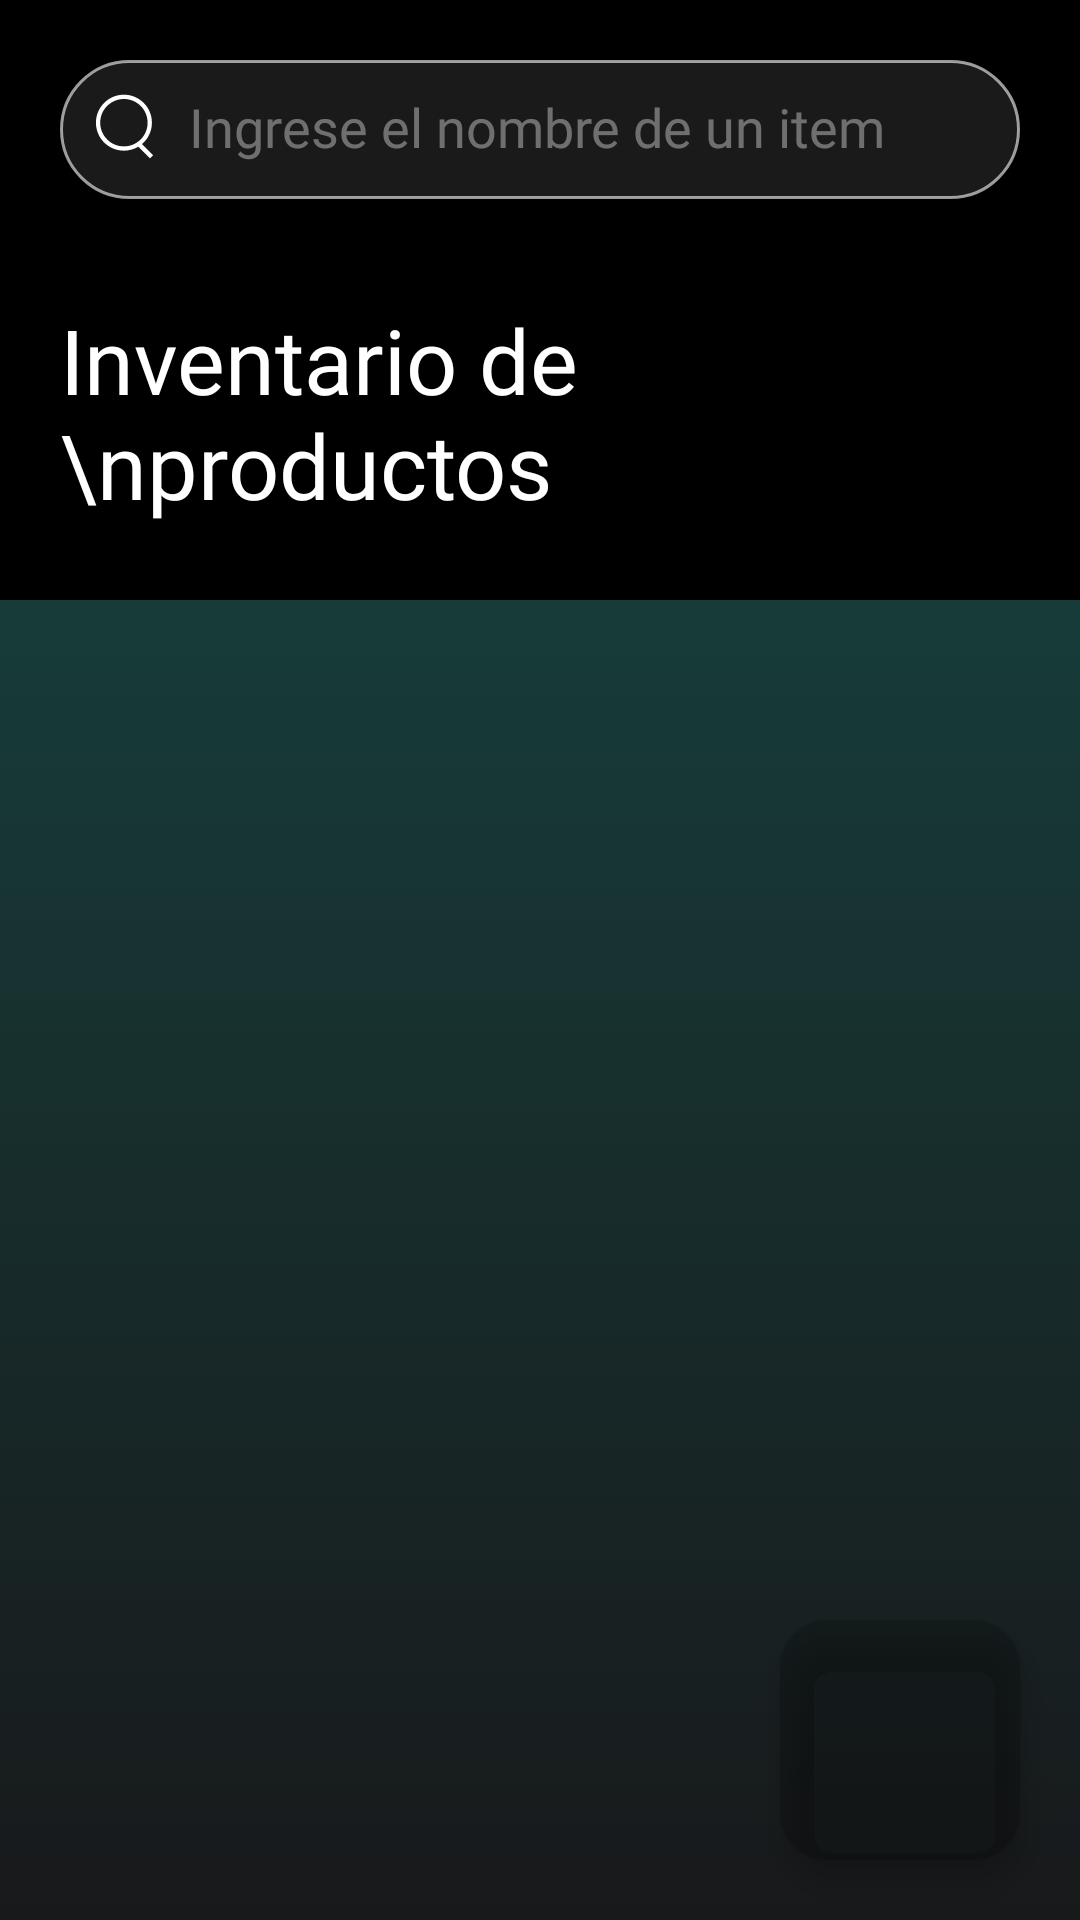

Icon click points for this 1080w x 1920h phone screenshot, format [x,y]:
search: [124,126]
